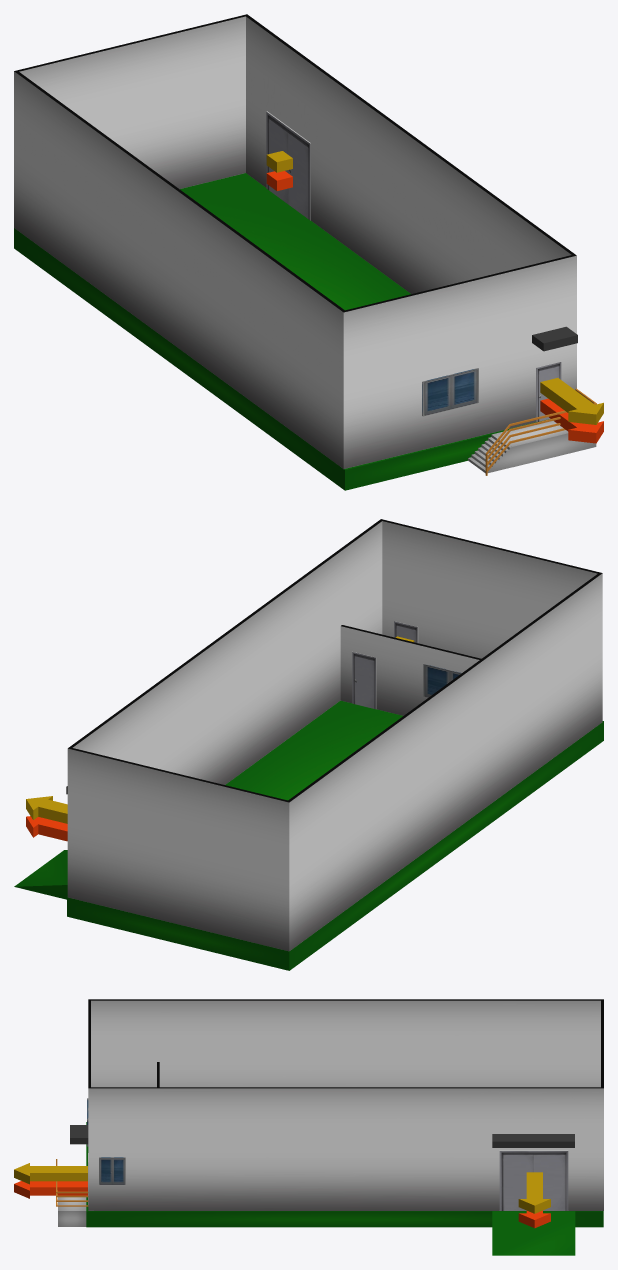
The model's file is soulbrain_T9-3-1F.glb.
The picture shows the model from 3 angles, top to bottom: view 1: azimuth 30°, elevation 25°; view 2: azimuth 150°, elevation 25°; view 3: azimuth 270°, elevation 25°; orthographic projection. The views are drawn at different scales.
Visible parts, largest first — view 1: Box901, Box918, StraightStair004, Box906, Box919, arrow_Y_2_T9-3-1F, arrow_R_2_T9-3-1F, Box897; view 2: Box901, Box918, Box906, arrow_Y_1_T9-3-1F, Box919, arrow_R_1_T9-3-1F; view 3: Box901, Box918, Box906, Box897, arrow_Y_2_T9-3-1F, StraightStair004, arrow_R_2_T9-3-1F, arrow_Y_1_T9-3-1F, Box919, arrow_R_1_T9-3-1F.
Part boxes in pixels (x1=…): Box901: x1=14, y1=14, x2=576, y2=468; Box918: x1=14, y1=173, x2=548, y2=490; StraightStair004: x1=468, y1=388, x2=596, y2=475; Box906: x1=266, y1=111, x2=561, y2=422; Box919: x1=422, y1=368, x2=478, y2=416; arrow_Y_2_T9-3-1F: x1=540, y1=378, x2=603, y2=424; arrow_R_2_T9-3-1F: x1=540, y1=398, x2=603, y2=443; Box897: x1=532, y1=326, x2=577, y2=351; Box901: x1=67, y1=519, x2=602, y2=951; Box918: x1=14, y1=700, x2=603, y2=970; Box906: x1=352, y1=621, x2=418, y2=709; arrow_Y_1_T9-3-1F: x1=26, y1=796, x2=67, y2=823; Box919: x1=423, y1=663, x2=461, y2=697; arrow_R_1_T9-3-1F: x1=26, y1=816, x2=67, y2=841; Box901: x1=88, y1=999, x2=603, y2=1210; Box918: x1=86, y1=1122, x2=603, y2=1255; Box906: x1=88, y1=1150, x2=568, y2=1210; Box897: x1=70, y1=1125, x2=574, y2=1147; arrow_Y_2_T9-3-1F: x1=14, y1=1163, x2=87, y2=1184; StraightStair004: x1=56, y1=1159, x2=88, y2=1226; arrow_R_2_T9-3-1F: x1=14, y1=1181, x2=87, y2=1198; arrow_Y_1_T9-3-1F: x1=518, y1=1172, x2=550, y2=1213; Box919: x1=87, y1=1098, x2=125, y2=1184; arrow_R_1_T9-3-1F: x1=518, y1=1210, x2=550, y2=1228.
Bounding box in the file's own units: 12.74 × 6.76 × 25.91.
15 materials, 7 textured.
